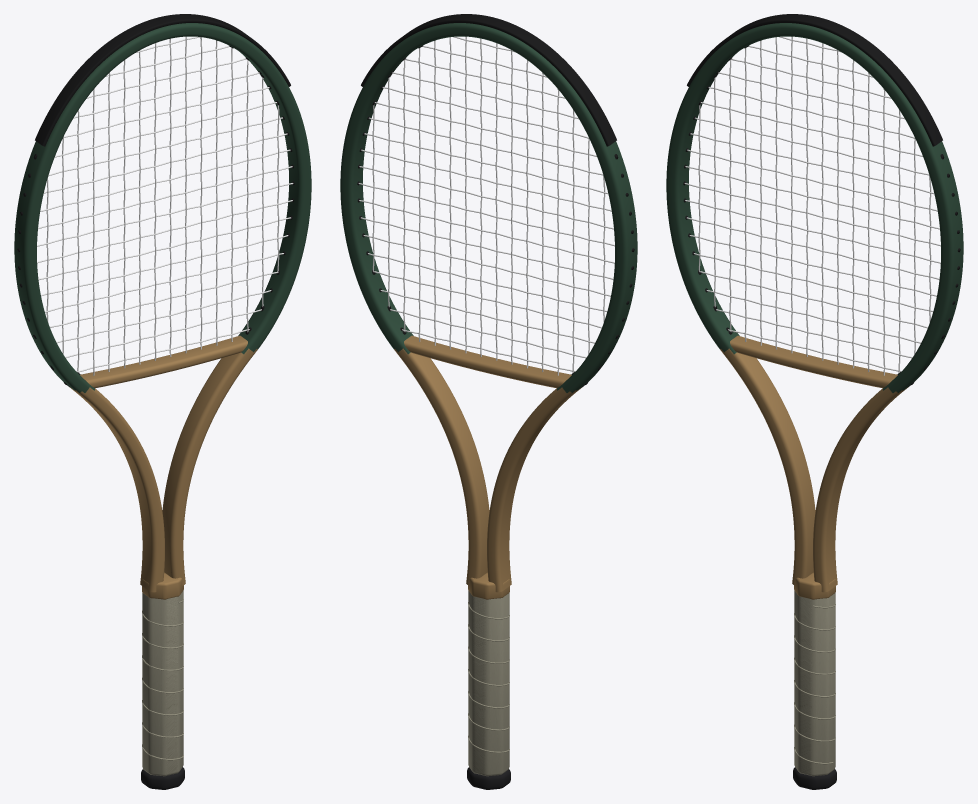
The model's file is wilson-blade-98-16x19-v9.glb.
3 renders of one model, left to right at view 1: azimuth 30°, elevation 25°; view 2: azimuth 150°, elevation 25°; view 3: azimuth 330°, elevation 25°, orthographic.
Parts seen in each view (by area): view 1: Frame, Strings, Handle, Bumper, Yoke, Collar, GripSeam, ButtCap; view 2: Frame, Strings, Handle, Bumper, Yoke, Collar, GripSeam, ButtCap; view 3: Frame, Strings, Handle, Bumper, Yoke, GripSeam, Collar, ButtCap.
Boxes of the visible parts, box(x1,y1,x2,y2) form: Frame: box(14, 23, 311, 592); Strings: box(37, 36, 293, 375); Handle: box(142, 590, 183, 776); Bumper: box(35, 14, 290, 146); Yoke: box(80, 335, 247, 388); Collar: box(142, 572, 183, 599); GripSeam: box(142, 599, 183, 760); ButtCap: box(141, 767, 184, 789); Frame: box(340, 23, 637, 592); Strings: box(358, 36, 614, 375); Handle: box(468, 590, 509, 776); Bumper: box(361, 14, 616, 146); Yoke: box(404, 335, 571, 388); Collar: box(468, 572, 509, 599); GripSeam: box(468, 602, 509, 752); ButtCap: box(467, 767, 510, 789); Frame: box(666, 23, 963, 592); Strings: box(684, 36, 940, 375); Handle: box(794, 590, 835, 776); Bumper: box(687, 14, 942, 146); Yoke: box(730, 335, 897, 388); GripSeam: box(794, 604, 835, 764); Collar: box(794, 572, 835, 599); ButtCap: box(793, 767, 836, 789).
Bounding box in the file's own units: 0.2733 × 0.6886 × 0.0327.
6 materials, 1 textured.
